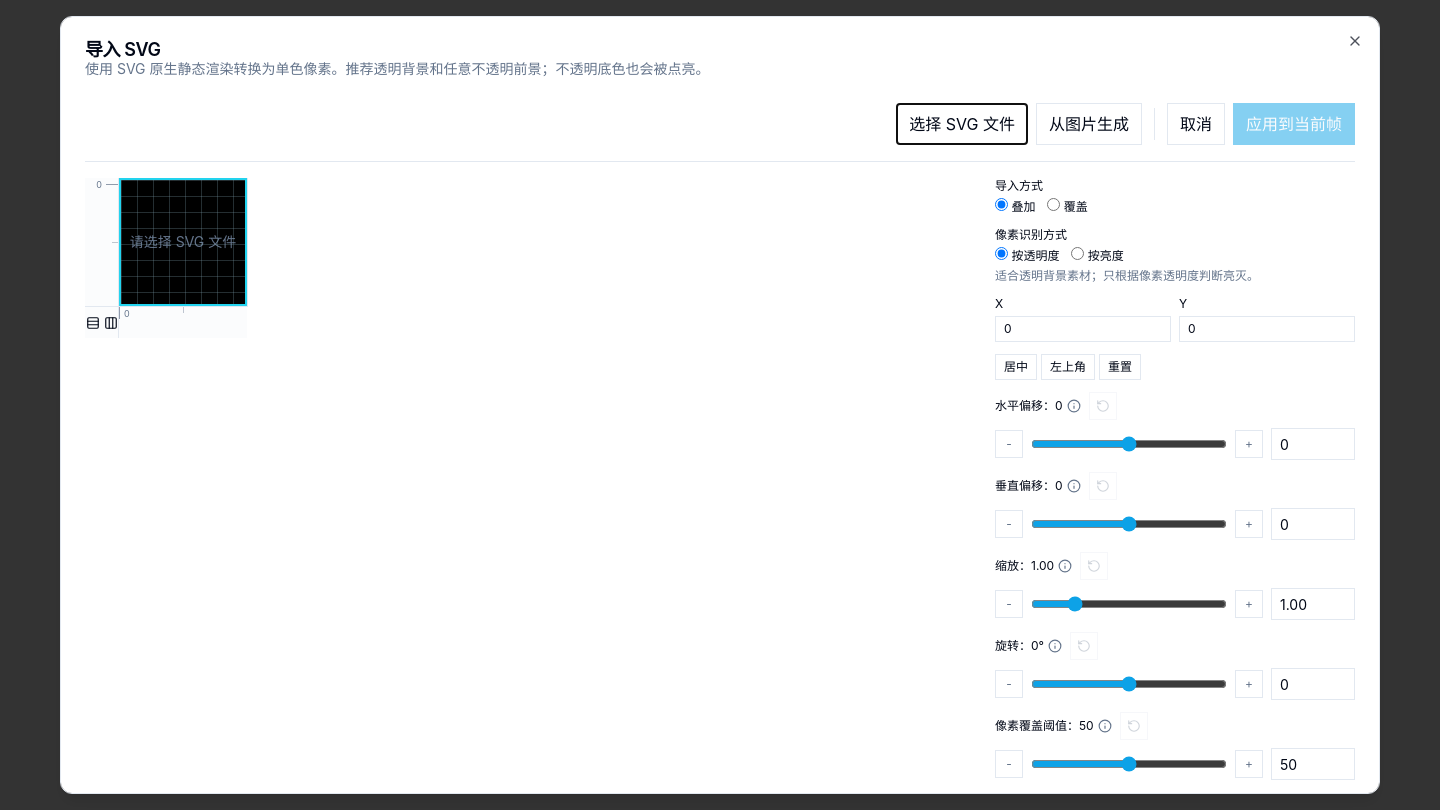
Scenario: accepts vtracer-like svg output without a viewBox
The image size is (1440, 810).
Click the button "选择 SVG 文件".
click(962, 124)  # box [896,103,1028,145]
(page scrolled)
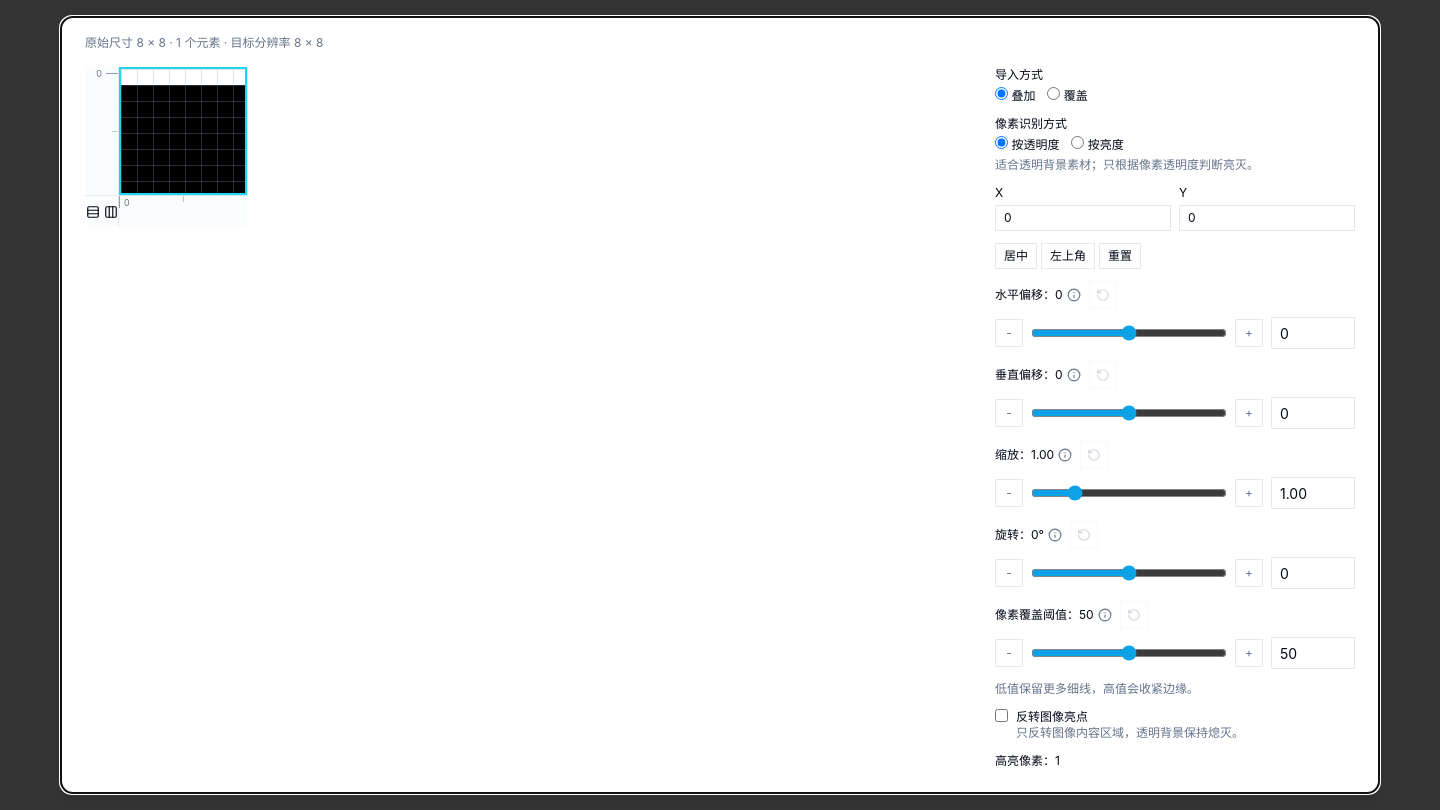
Result: the text "高亮像素：1" is shown at [995,753,1060,768]
